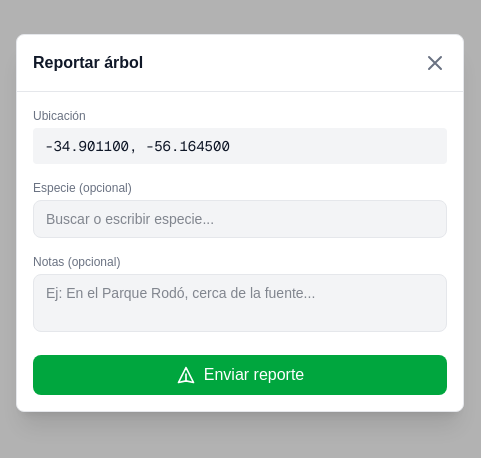
Scenario: ReportModal › shows error message on submission failure
Click the button "Enviar reporte": (240, 375) [33,355,447,395]
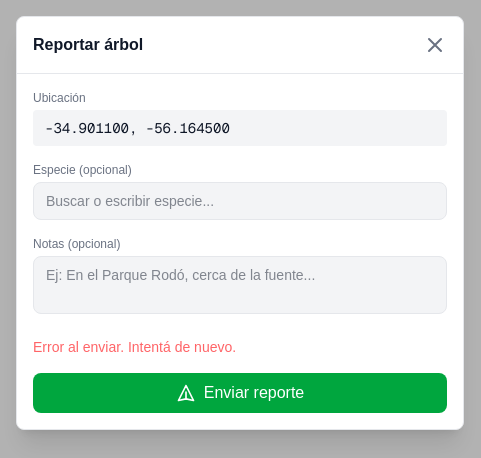
Expected: the text "Error al enviar. Intentá de nuevo." is shown, [33,339,236,355]
